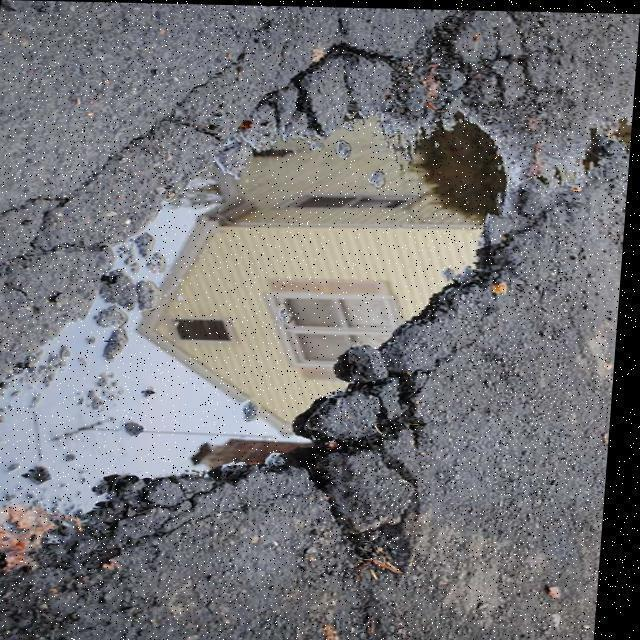Pothole: (1, 11, 579, 586)
